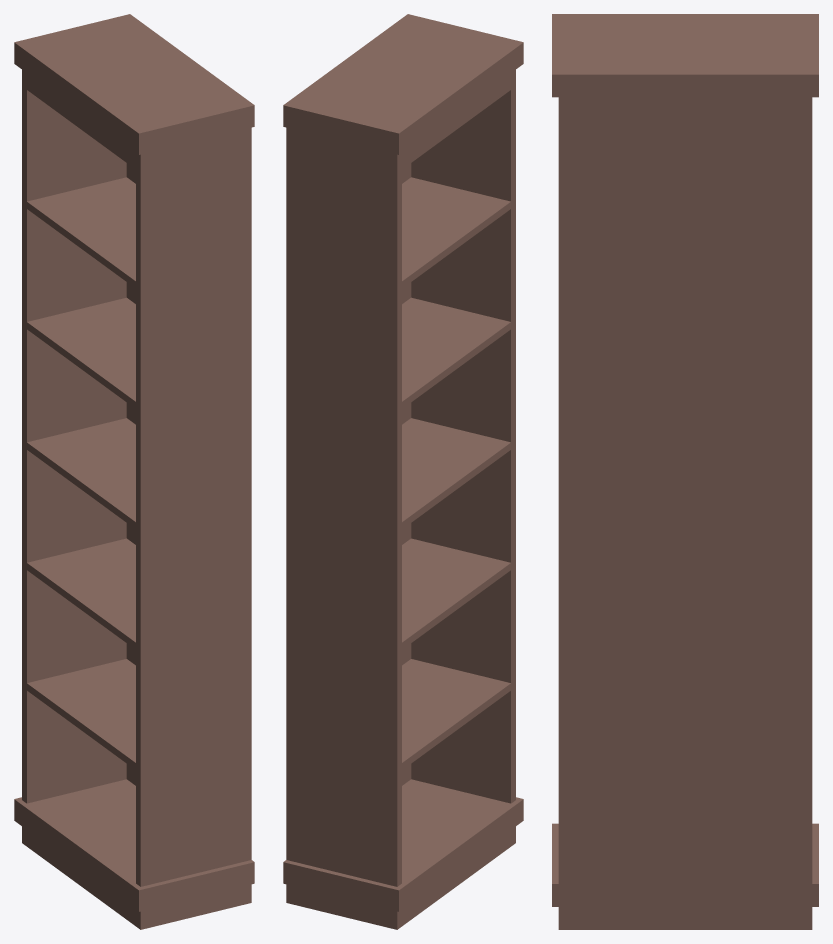
File: Bookcase01.fbx
The picture shows the model from 3 angles, left to right: view 1: azimuth 30°, elevation 25°; view 2: azimuth 150°, elevation 25°; view 3: azimuth 270°, elevation 25°; orthographic projection. The views are drawn at different scales.
Parts seen in each view (by area): view 1: Bookcase01; view 2: Bookcase01; view 3: Bookcase01.
Boxes of the visible parts, <box> form: Bookcase01: <box>14,14,254,929</box>; Bookcase01: <box>283,14,523,929</box>; Bookcase01: <box>552,14,818,929</box>.
Bounding box in the file's own units: 0.2821 × 0.5259 × 1.86.
